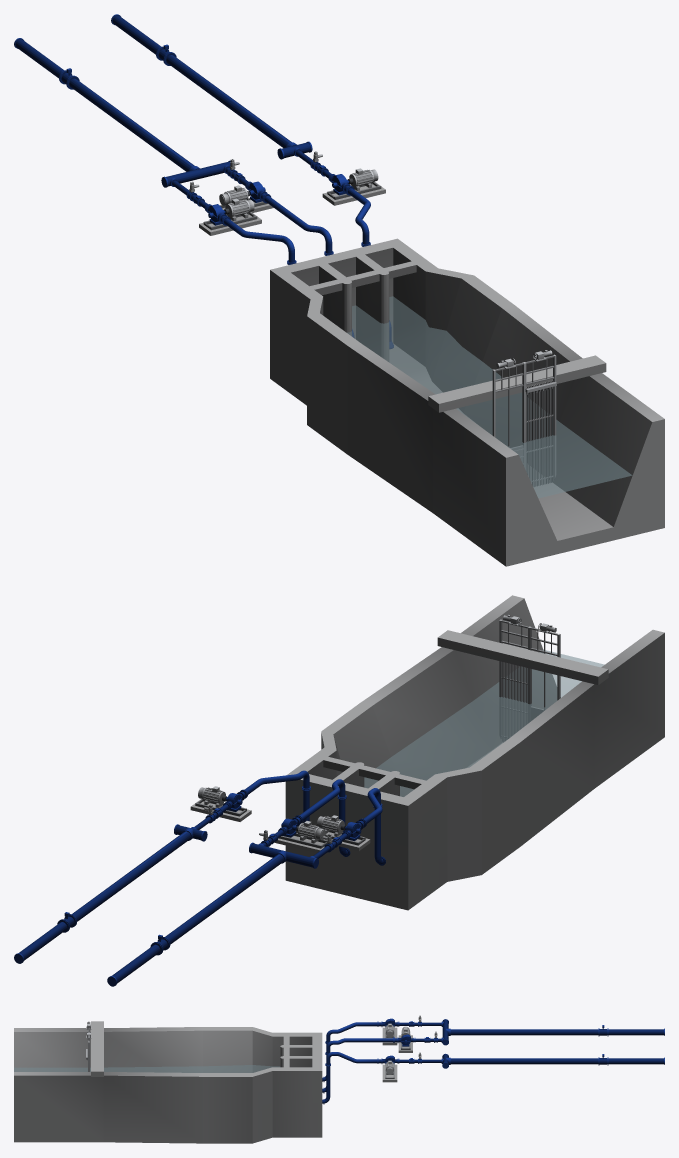
The picture shows the model from 3 angles, top to bottom: view 1: azimuth 30°, elevation 25°; view 2: azimuth 150°, elevation 25°; view 3: azimuth 270°, elevation 25°; orthographic projection. The views are drawn at different scales.
Parts seen in each view (by area): view 1: STATIC__CIVIL, BASIN-01, RACK-01__RACK__BARS, HDR-01__HDR__PIPE, HDR-02__HDR__PIPE, GATE-01__GATE__FRAME; view 2: STATIC__CIVIL, BASIN-01, HDR-01__HDR__PIPE, RACK-01__RACK__BARS, HDR-02__HDR__PIPE, PMP-02__PIPE__SUCTION, PMP-01__PIPE__SUCTION, PMP-03__PIPE__SUCTION, GATE-01__GATE__FRAME; view 3: STATIC__CIVIL, HDR-01__HDR__PIPE, HDR-02__HDR__PIPE, BASIN-01, PMP-03__PIPE__SUCTION, PMP-02__PIPE__SUCTION, PMP-01__PIPE__SUCTION.
Part boxes in pixels (box(x1,y1,x2,y2)): STATIC__CIVIL: box(199, 181, 664, 566); BASIN-01: box(347, 296, 632, 498); RACK-01__RACK__BARS: box(523, 350, 556, 486); HDR-01__HDR__PIPE: box(14, 38, 230, 187); HDR-02__HDR__PIPE: box(111, 14, 312, 159); GATE-01__GATE__FRAME: box(492, 362, 525, 469); STATIC__CIVIL: box(190, 595, 664, 910); BASIN-01: box(364, 649, 604, 796); HDR-01__HDR__PIPE: box(107, 842, 318, 986); RACK-01__RACK__BARS: box(499, 615, 530, 742); HDR-02__HDR__PIPE: box(14, 824, 207, 963); PMP-02__PIPE__SUCTION: box(295, 779, 350, 856); PMP-01__PIPE__SUCTION: box(358, 788, 385, 865); PMP-03__PIPE__SUCTION: box(240, 770, 310, 822); GATE-01__GATE__FRAME: box(528, 627, 560, 722); STATIC__CIVIL: box(14, 1021, 412, 1143); HDR-01__HDR__PIPE: box(441, 1019, 664, 1045); HDR-02__HDR__PIPE: box(441, 1053, 664, 1068); BASIN-01: box(14, 1065, 279, 1072); PMP-03__PIPE__SUCTION: box(322, 1052, 381, 1104); PMP-02__PIPE__SUCTION: box(322, 1037, 397, 1093); PMP-01__PIPE__SUCTION: box(322, 1021, 381, 1081).
Bounding box in the file's own units: 13.16 × 9.98 × 65.45.
